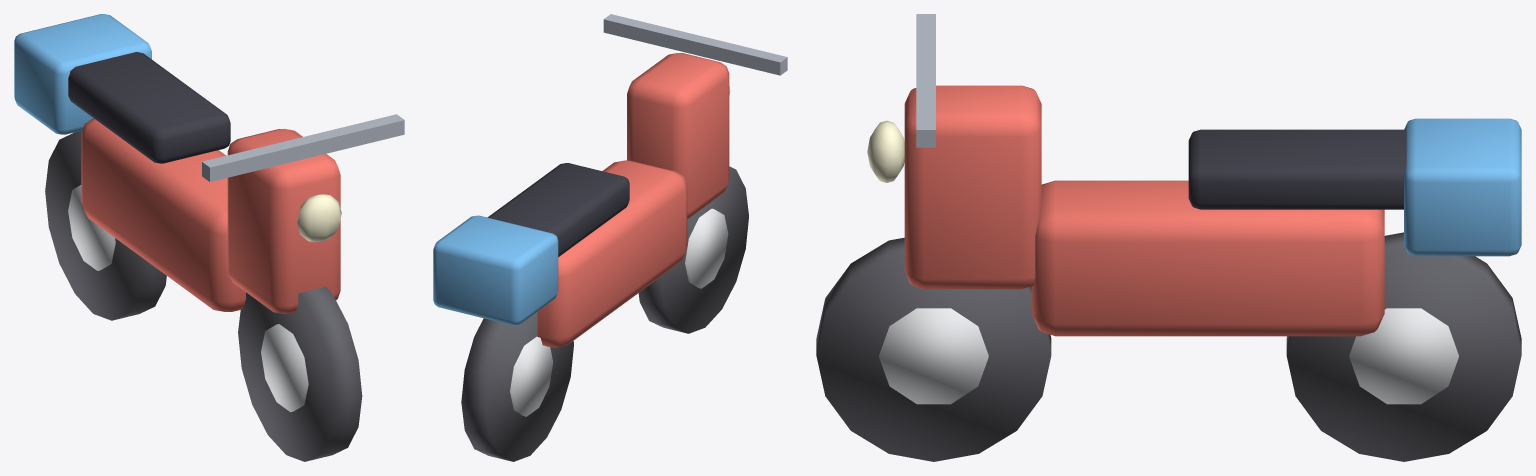
File: Prop_Kapcai.fbx
3 views of the same model, side by side, from view 1: azimuth 30°, elevation 25°; view 2: azimuth 150°, elevation 25°; view 3: azimuth 270°, elevation 25° (orthographic). The views are drawn at different scales.
Parts seen in each view (by area): view 1: Prop_Kapcai; view 2: Prop_Kapcai; view 3: Prop_Kapcai.
Boxes of the visible parts, x1,y1,x2,y2 form: Prop_Kapcai: (14,14,404,461); Prop_Kapcai: (433,14,787,461); Prop_Kapcai: (816,14,1521,461).
Bounding box in the file's own units: 0.7 × 1.07 × 1.8.
